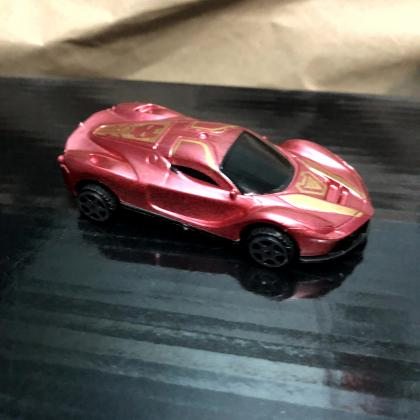Car: (57, 103, 375, 271)
